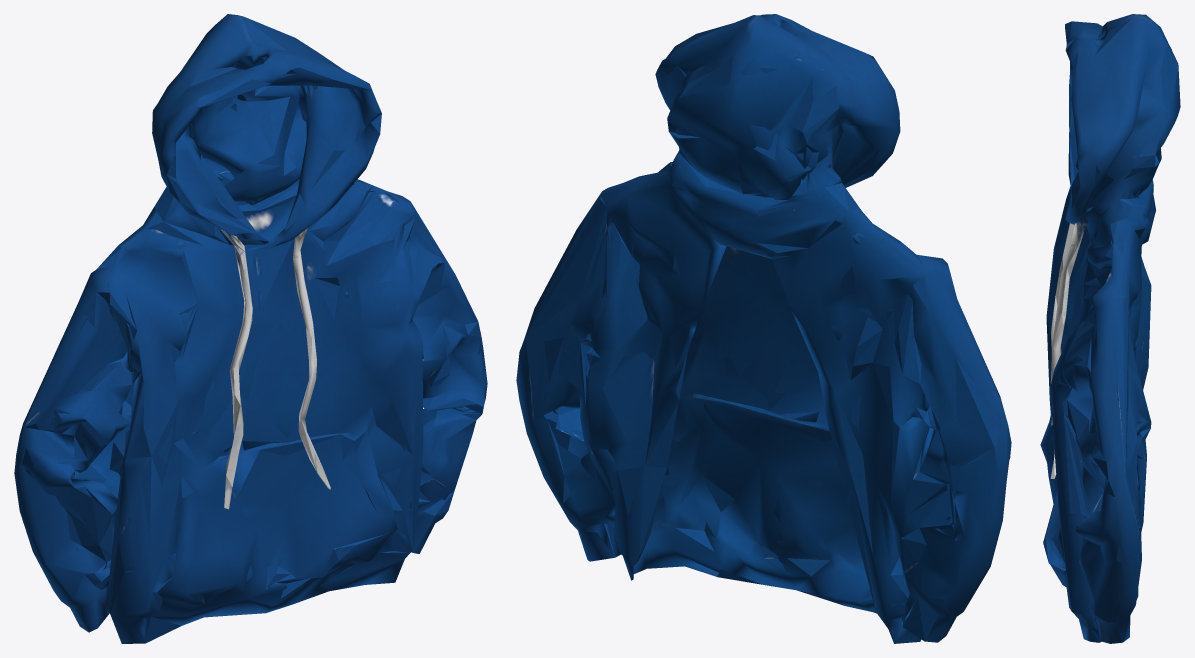
The model's file is addy_sweatshirt_adult.obj.
3 renders of one model, left to right at view 1: azimuth 30°, elevation 25°; view 2: azimuth 150°, elevation 25°; view 3: azimuth 270°, elevation 25°, orthographic. The views are drawn at different scales.
Parts seen in each view (by area): view 1: model; view 2: model; view 3: model.
Boxes of the visible parts, bbox=[...] form: model: bbox=[14, 14, 487, 643]; model: bbox=[516, 14, 1011, 643]; model: bbox=[1040, 14, 1180, 643].
Bounding box in the file's own units: 1.6 × 1.9 × 0.4287.
